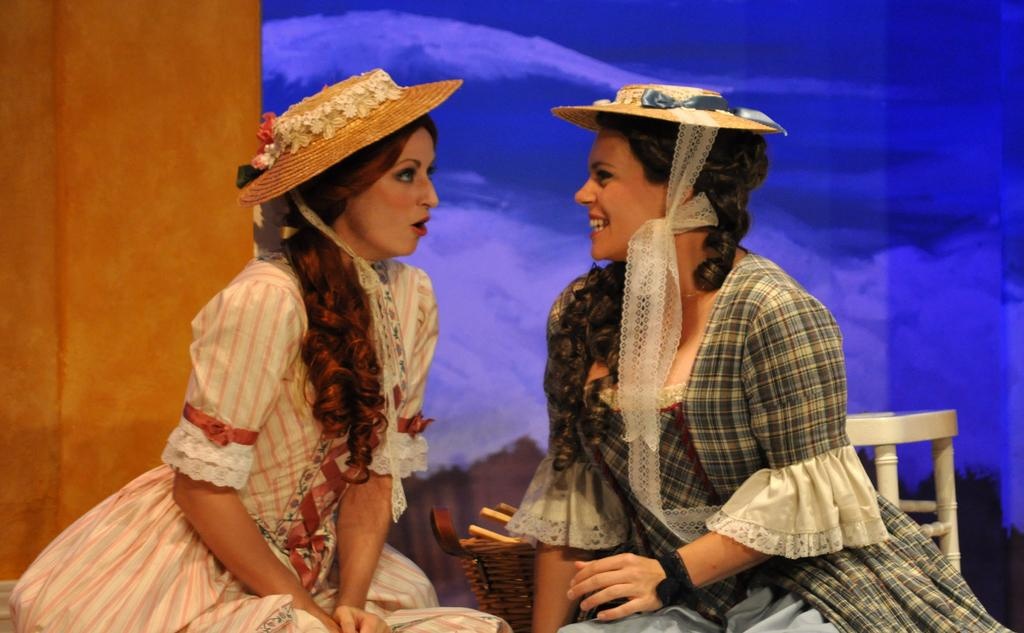Hat: (548, 82, 787, 524), (236, 64, 466, 294)
